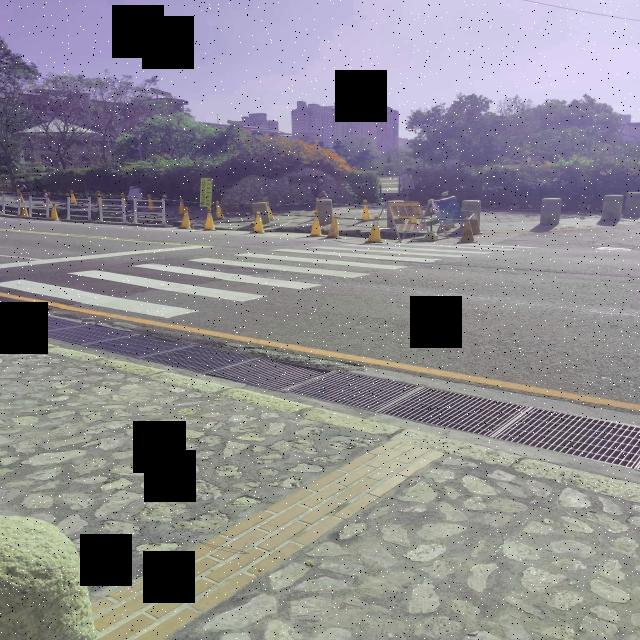zebra_crossing: (350, 100, 358, 380)
